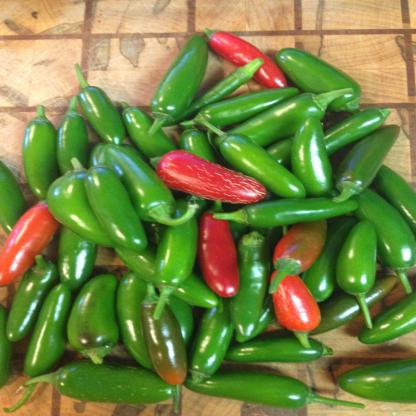--: (85, 151, 158, 254), (137, 277, 205, 386), (146, 146, 258, 208), (199, 192, 372, 229), (192, 197, 245, 297)
